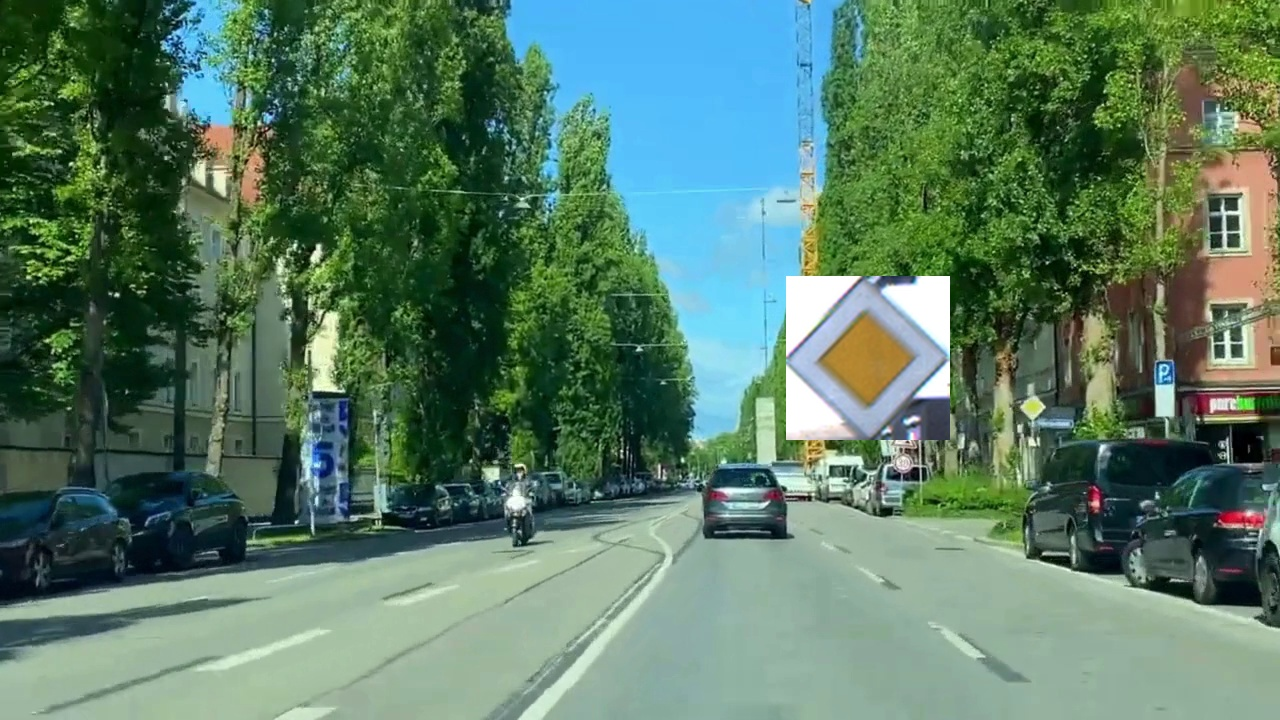Priority road: (786, 276, 950, 440)
